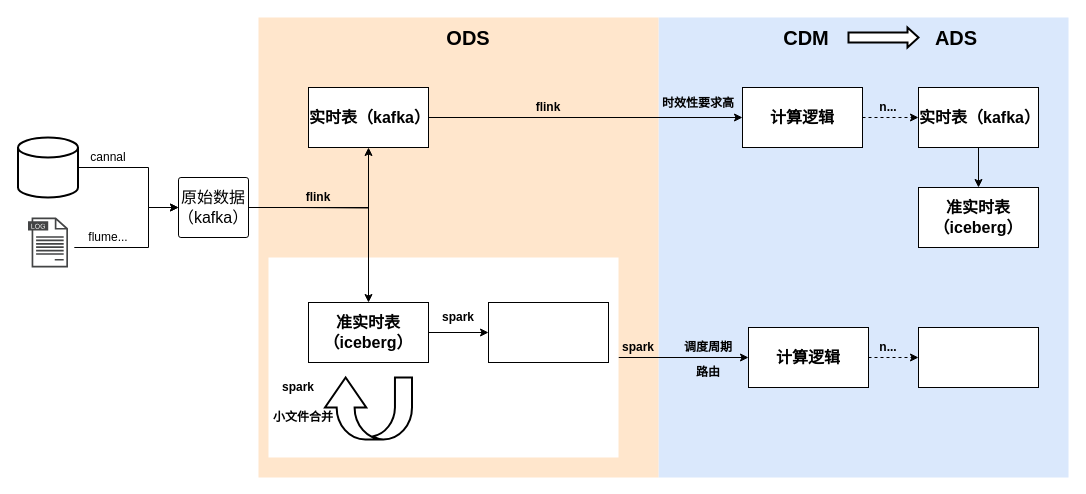
Image size: 1086x494. Some labels were removed from this diagram. Each missing label, with the box of its shape:
DB: (16, 136, 78, 198)
T+0表（hive）: (918, 326, 1038, 388)
T+1表（hive）: (488, 302, 608, 362)
